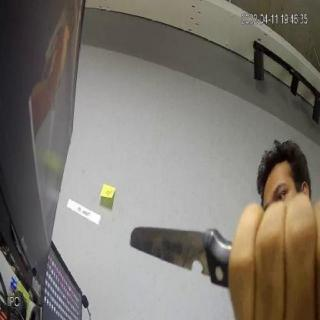knife: (127, 220, 225, 288)
